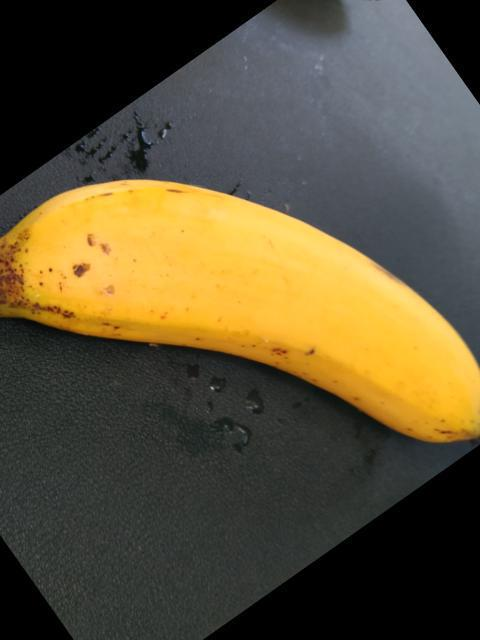freshripe: (19, 133, 479, 462)
